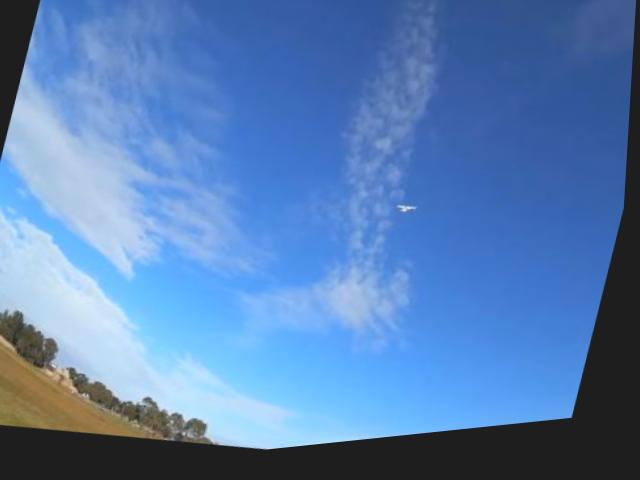uav: (390, 198, 428, 233)
